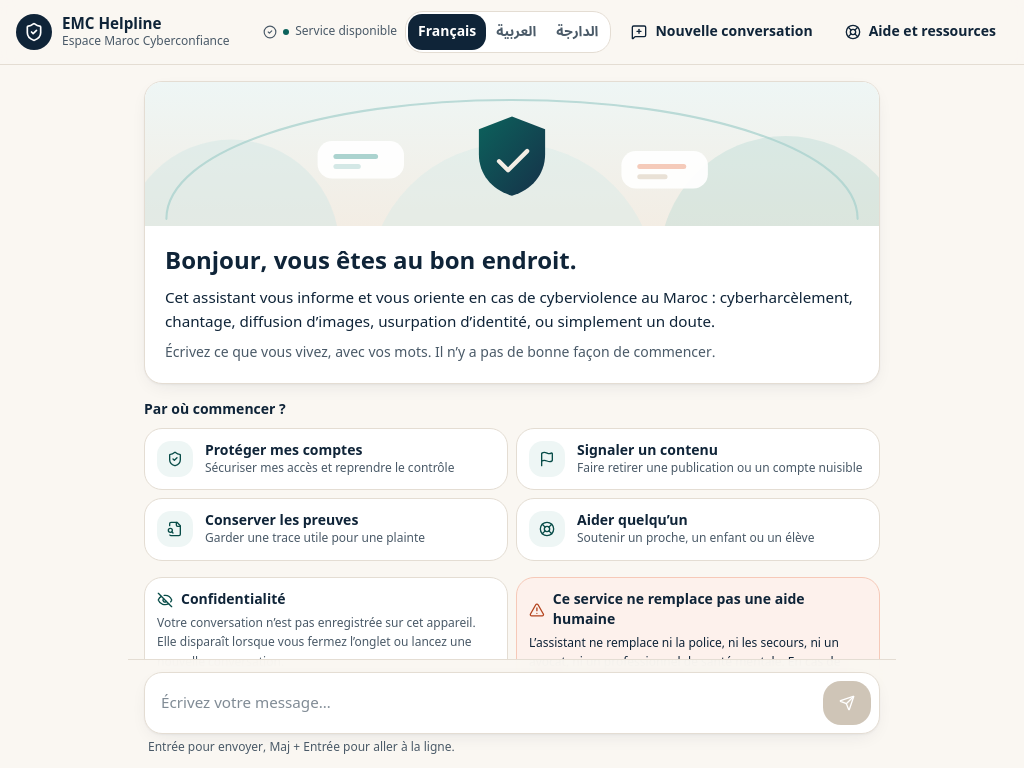
Test: sources › lists path, category and relevance when the backend provides them
Type "Question" into the text box labelled "votre message" at (484, 703), box [153,681,815,725]
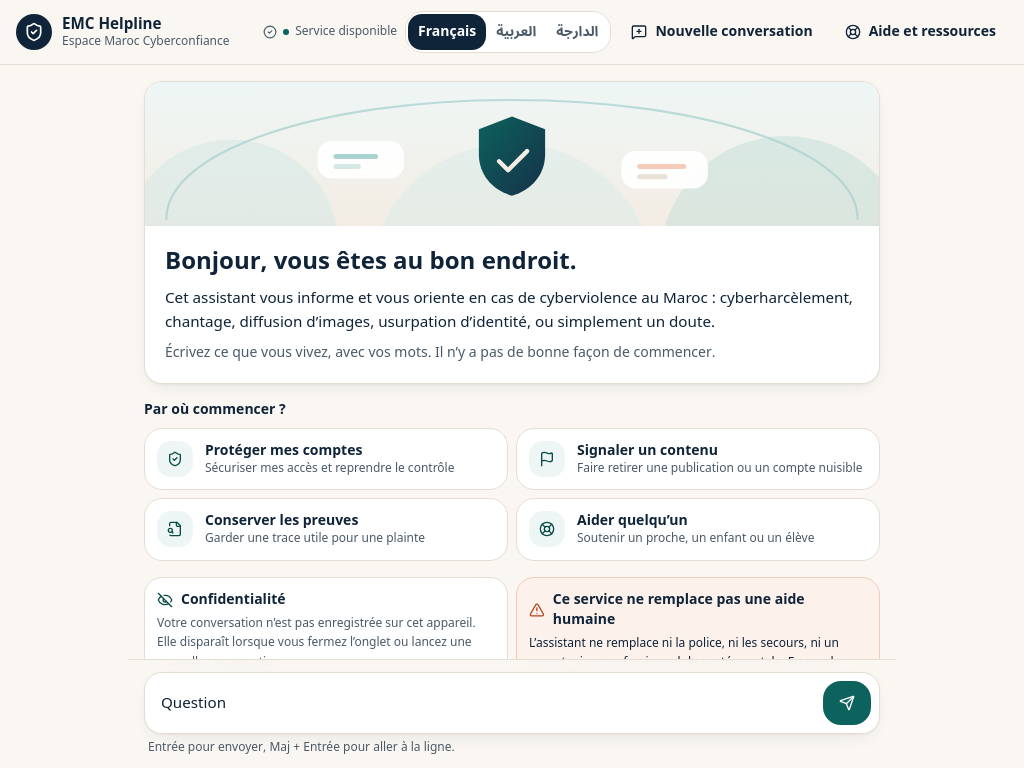
Press Enter
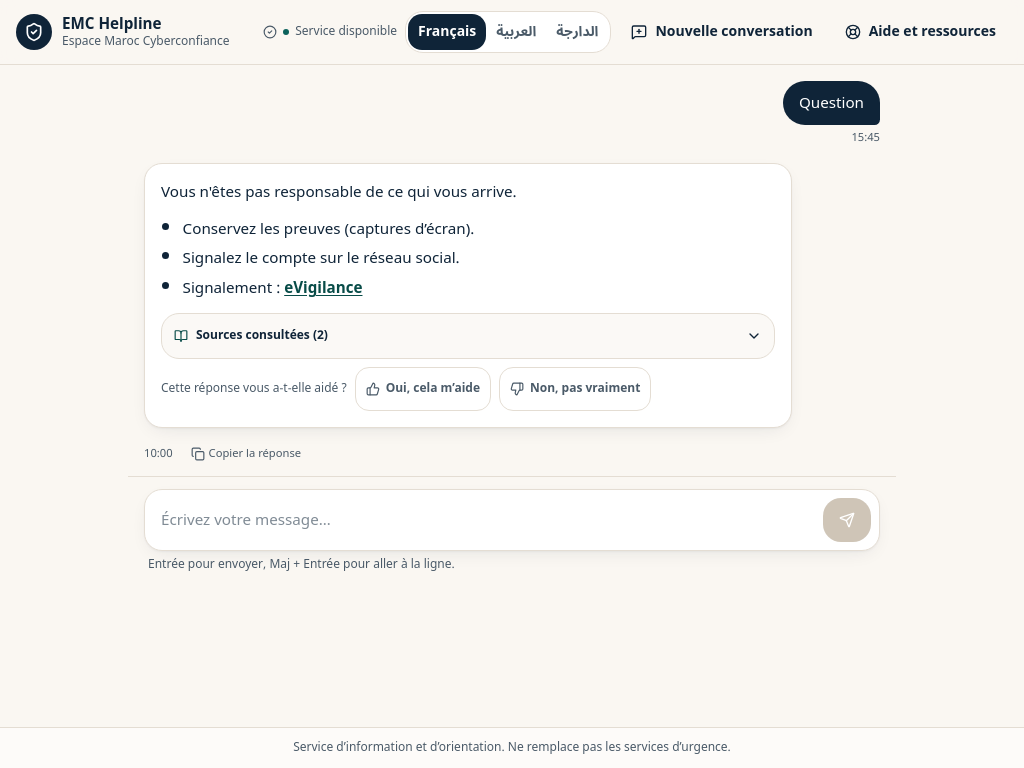
Click the heading "Sources consultées (2)" at (262, 335), box [174,323,762,348]
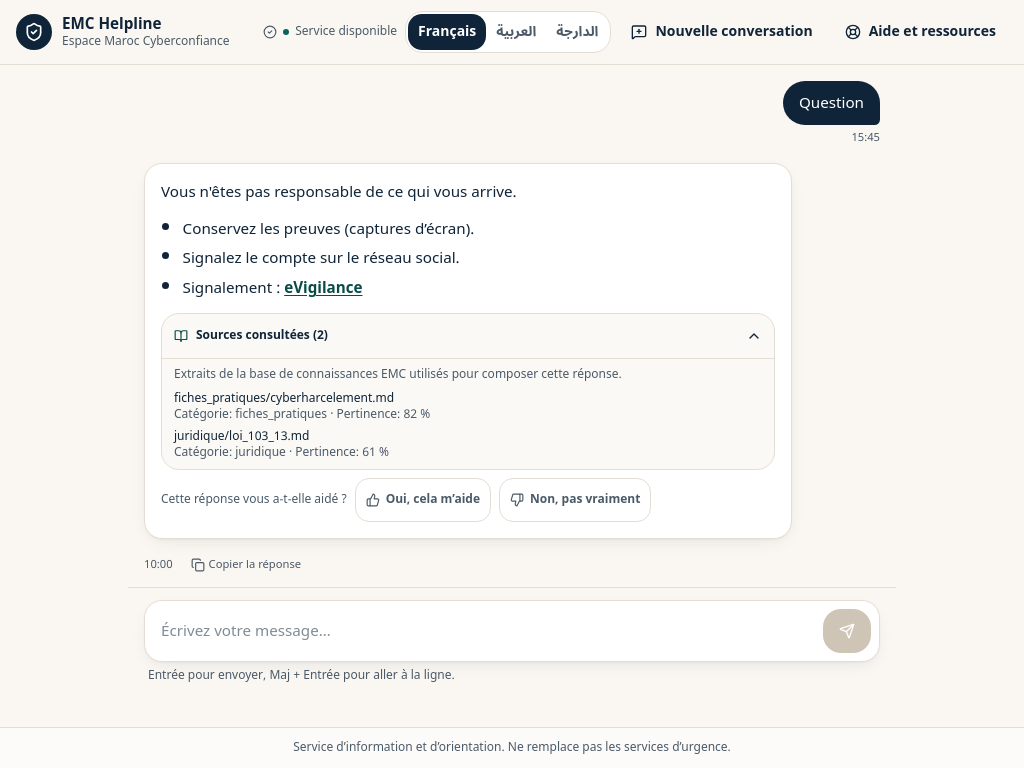
Expected: the text "fiches_pratiques/cyberharcelement.md" is shown, [174,386,394,411]
Expected: the text "Sources consultées (2)" shows "Catégorie: juridique", [161,313,775,470]
